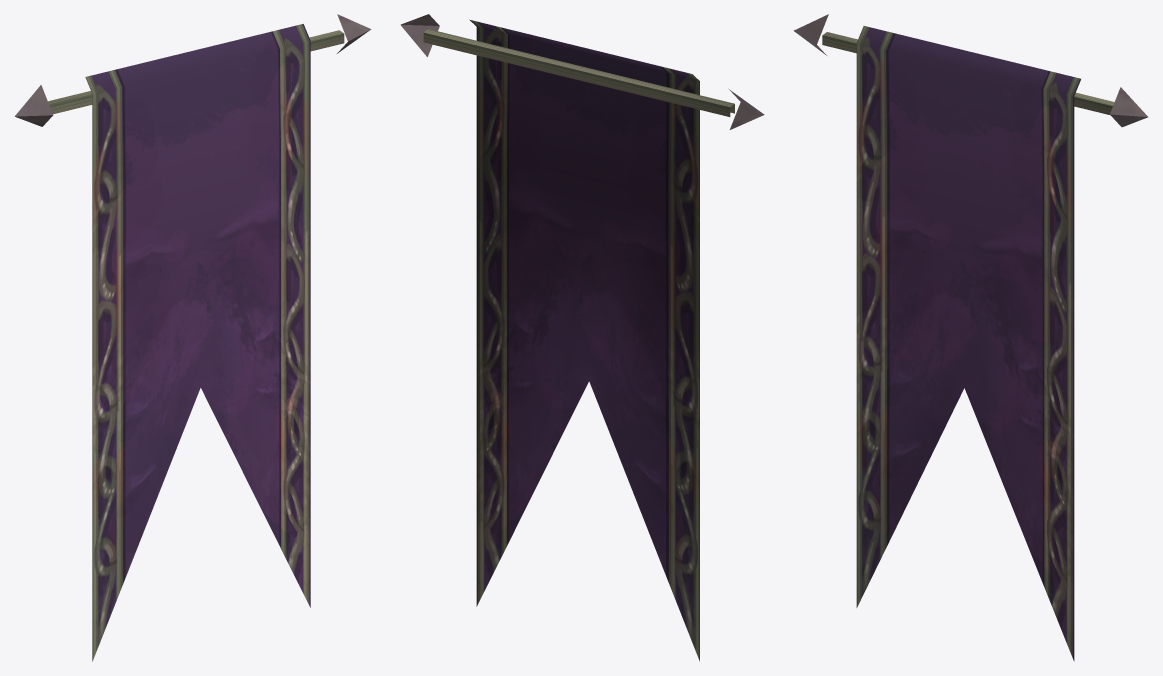
Rendered from fabric_k004.FBX.
The picture shows the model from 3 angles, left to right: view 1: azimuth 30°, elevation 25°; view 2: azimuth 150°, elevation 25°; view 3: azimuth 330°, elevation 25°; orthographic projection. The views are drawn at different scales.
Parts seen in each view (by area): view 1: fabric_k004; view 2: fabric_k004; view 3: fabric_k004.
Part boxes in pixels (left/top/right/bottom): fabric_k004: left=15, top=14, right=371, bottom=661; fabric_k004: left=400, top=14, right=764, bottom=661; fabric_k004: left=793, top=14, right=1148, bottom=661.
Size of the model in its own units: 1.86 by 2.89 by 0.1133.
